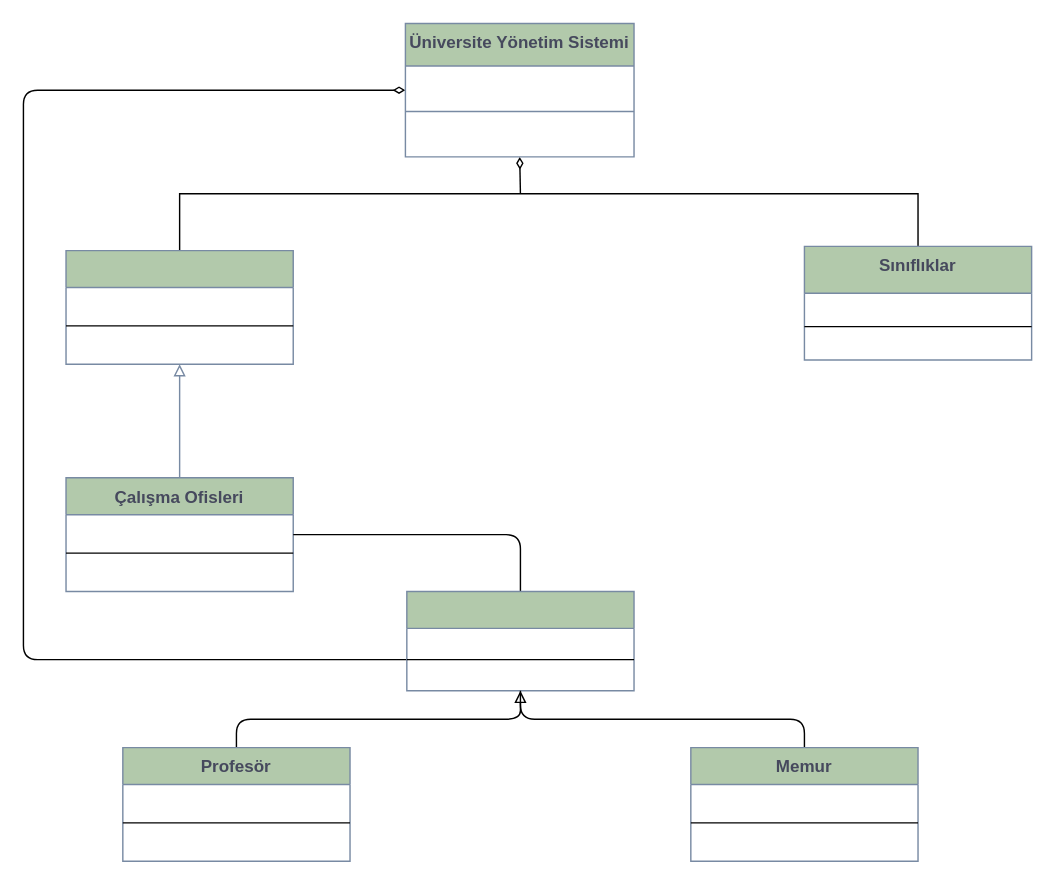
Image size: 1055x885. Some labels were removed from this diagram. Here are the shapes that lost their labels. From the top down, the box of each, then its label:
(65, 249, 293, 364): Departmanlar
(405, 590, 634, 691): Çalışanlar
